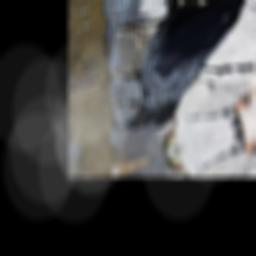Crow: (96, 0, 256, 142)
